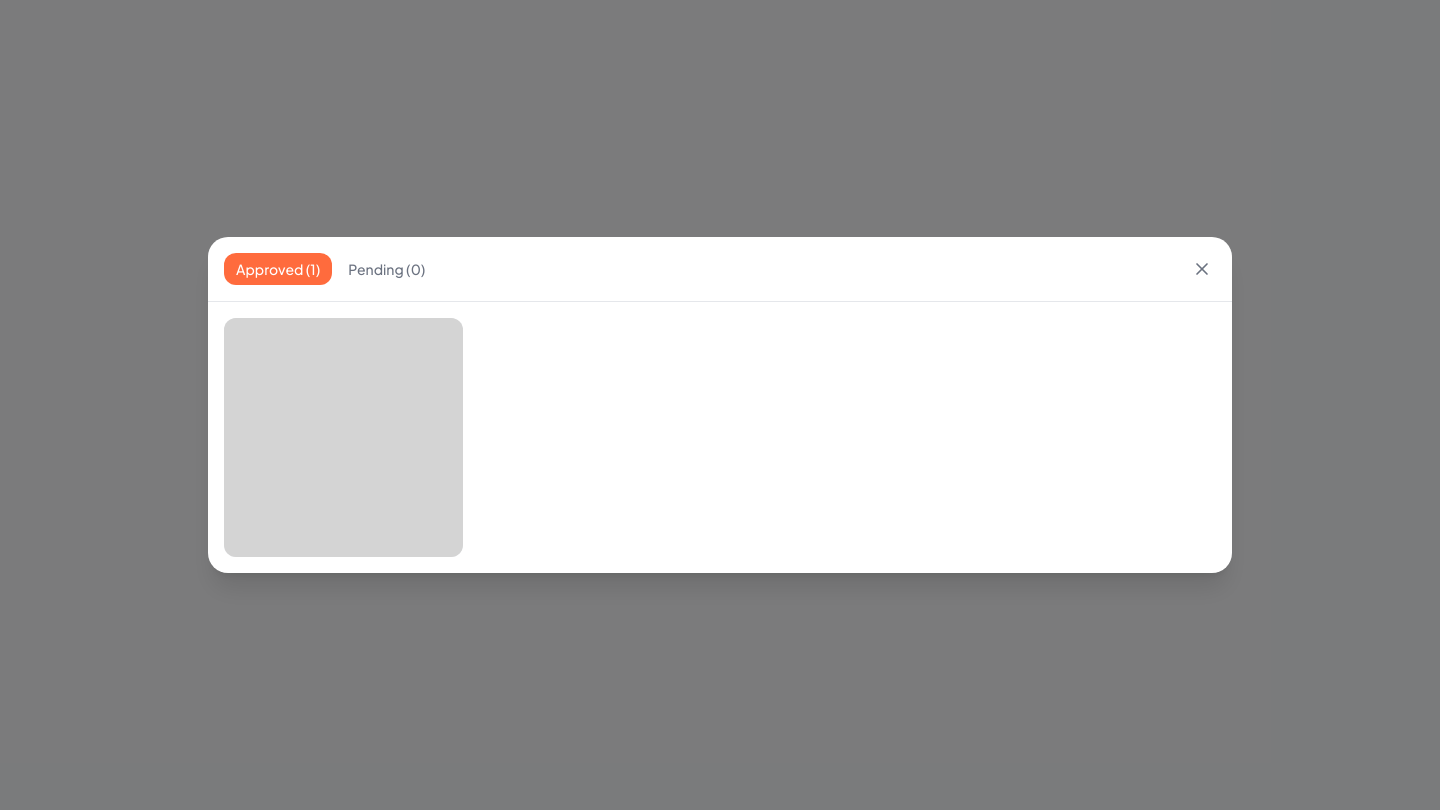
Test: KollabViewer › leaves an item out of Pending on a 409 (another moderator already reviewed it) instead of restoring it
This screenshot has width=1440, height=810.
Click the tab "Pending (0)".
click(387, 269)  # box [336, 253, 437, 285]
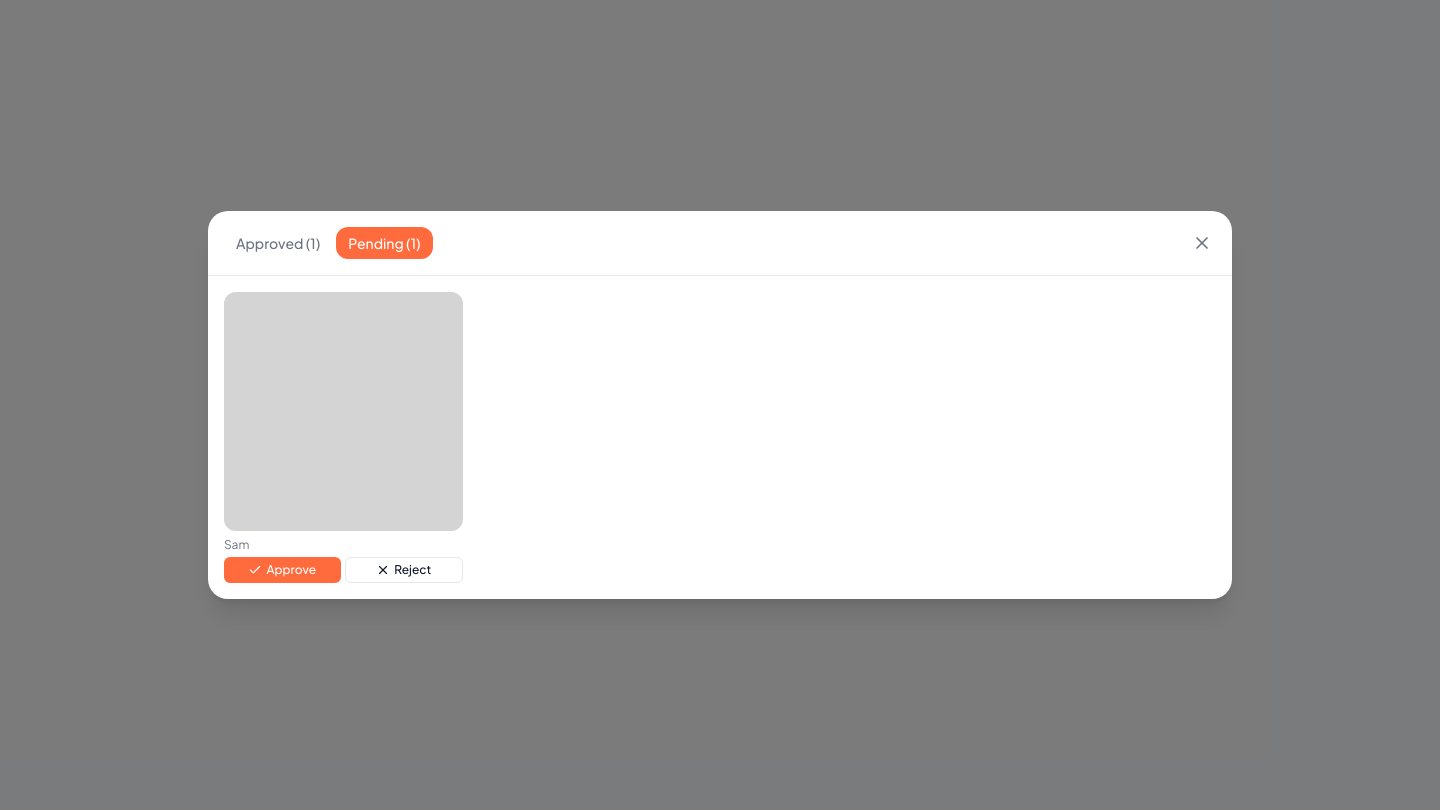
Check: the button "Approve" is shown
Click the button "Approve".
click(282, 570)  # box [224, 557, 340, 583]
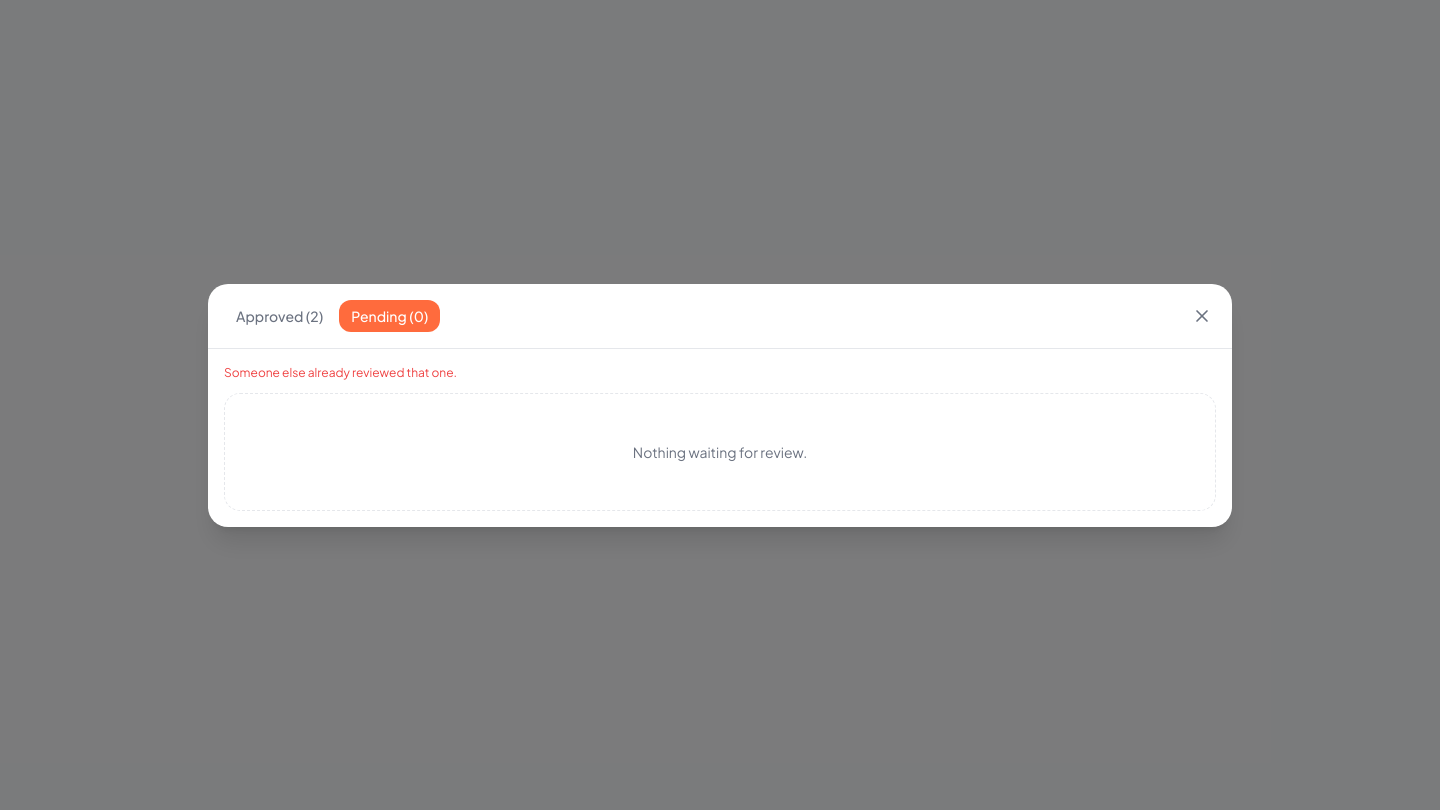
Check: the text "Someone else already reviewed that one." is shown, box [224, 364, 457, 380]
Check: the text "Nothing waiting for review." is shown, box [224, 392, 1216, 510]
